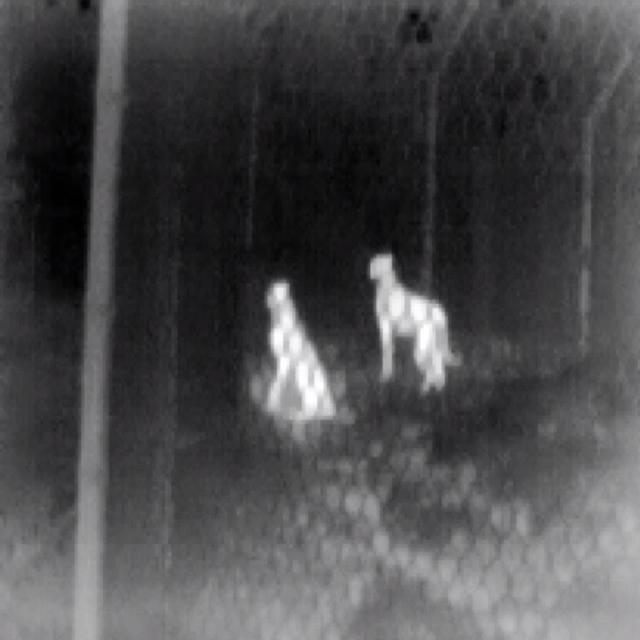cheetah: (370, 252, 461, 392), (265, 280, 334, 417)
